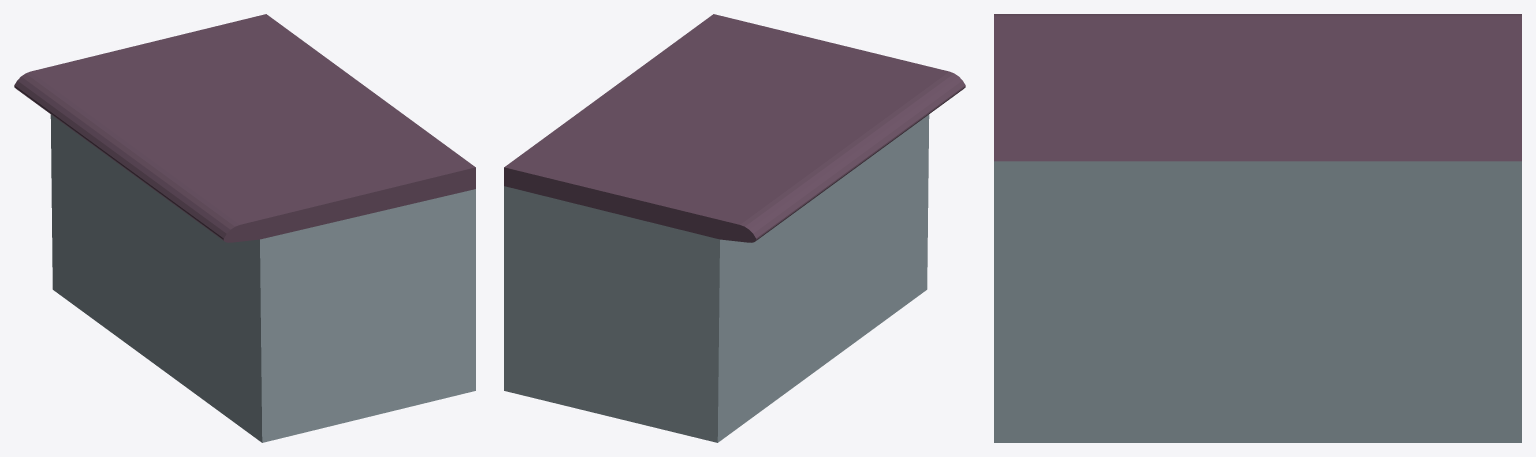
The model's file is blat.fbx.
The picture shows the model from 3 angles, left to right: view 1: azimuth 30°, elevation 25°; view 2: azimuth 150°, elevation 25°; view 3: azimuth 270°, elevation 25°; orthographic projection. The views are drawn at different scales.
Visible parts, largest first — view 1: Blat; view 2: Blat; view 3: Blat.
Boxes of the visible parts, x1=… form: Blat: x1=14, y1=14, x2=475, y2=442; Blat: x1=504, y1=14, x2=965, y2=442; Blat: x1=994, y1=14, x2=1521, y2=442.
Bounding box in the file's own units: 236 × 200 × 340.
